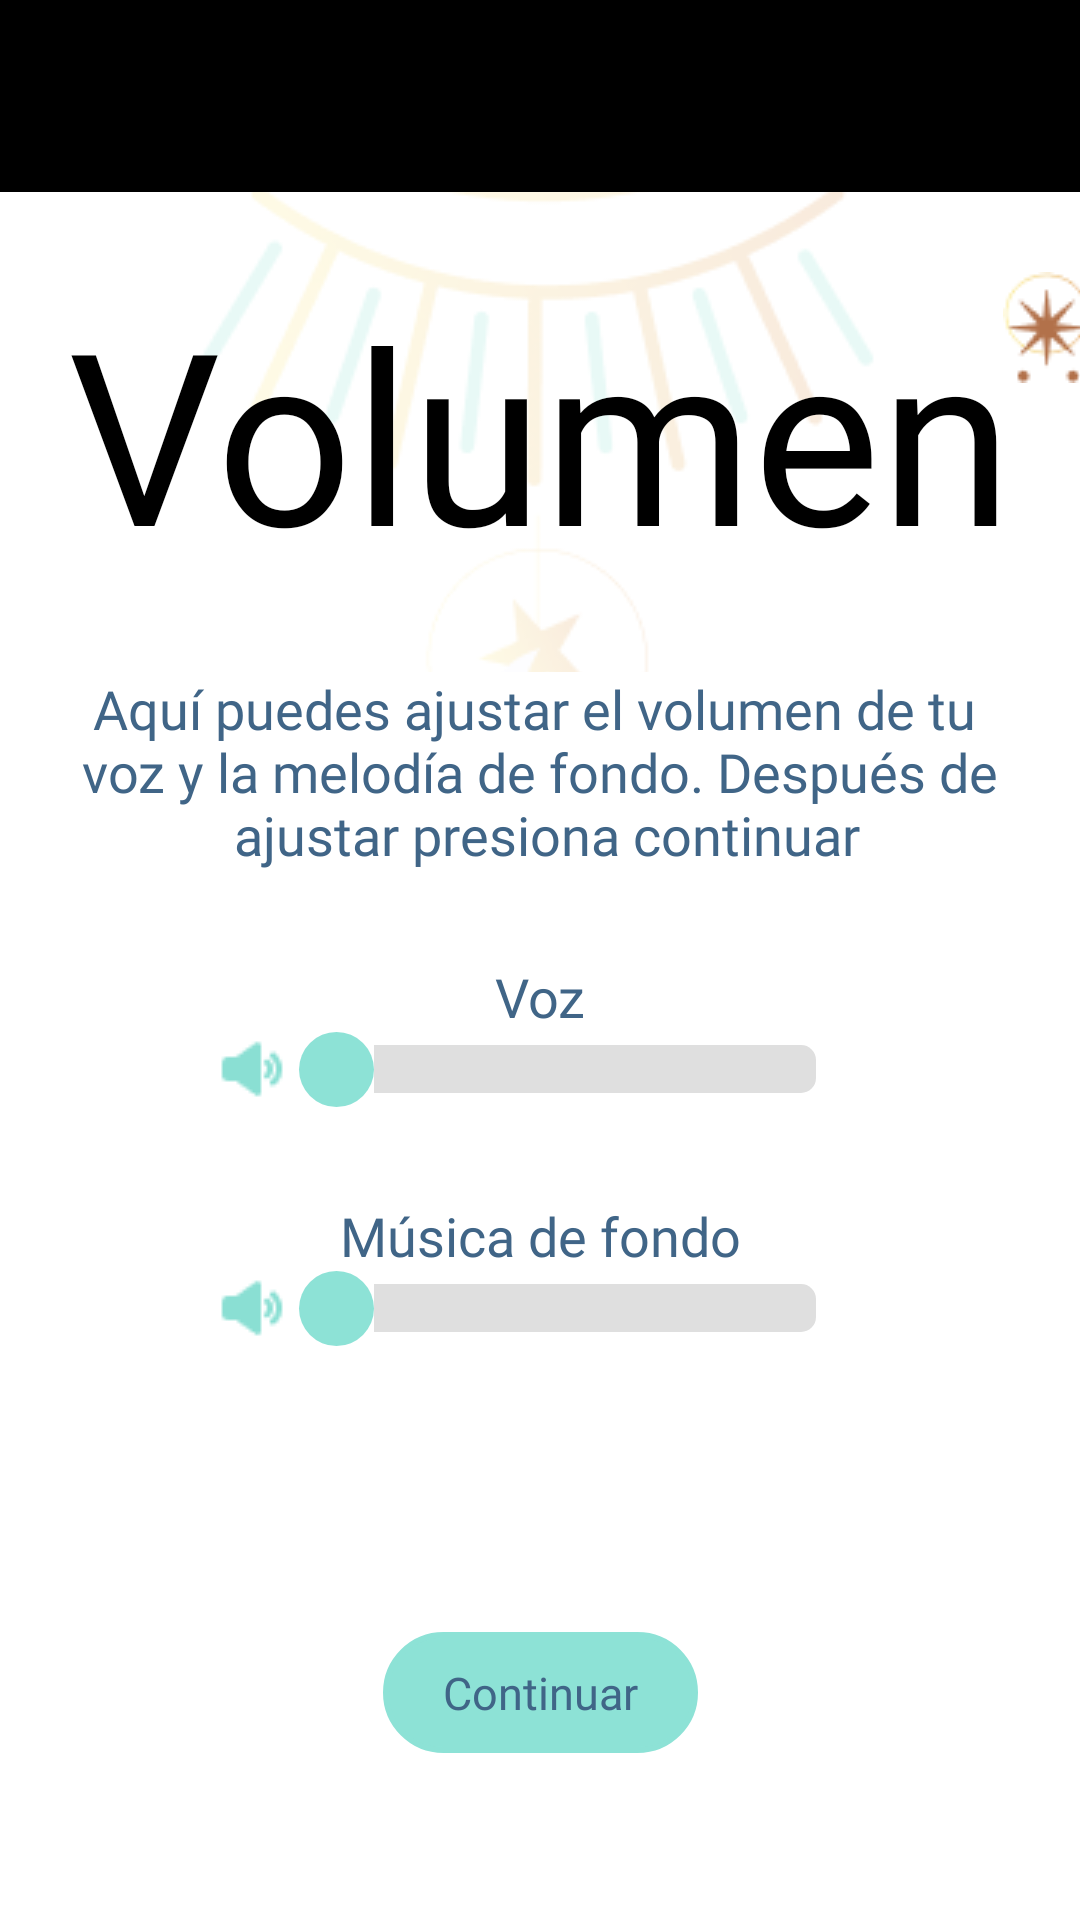

Screen size 1080 × 1920. Icon name, then its box in pixels as (x1, y1, x2, y2):
volumen: (221, 1041, 283, 1097), (221, 1280, 283, 1336)
